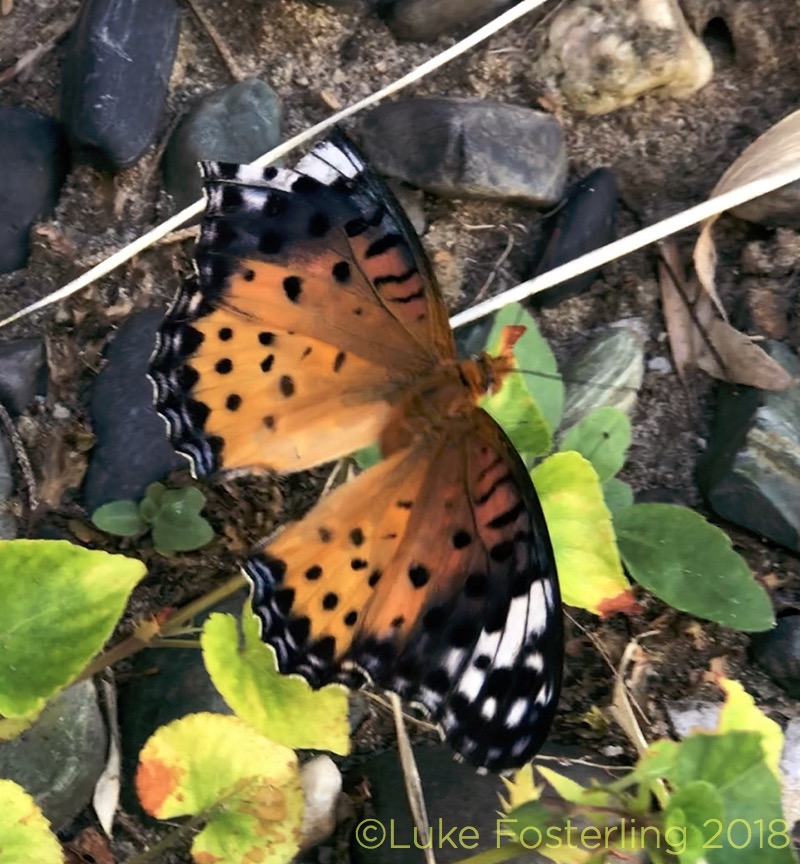Argyreus hyperbius: (140, 118, 665, 778)
butterfly: (142, 120, 667, 780)
